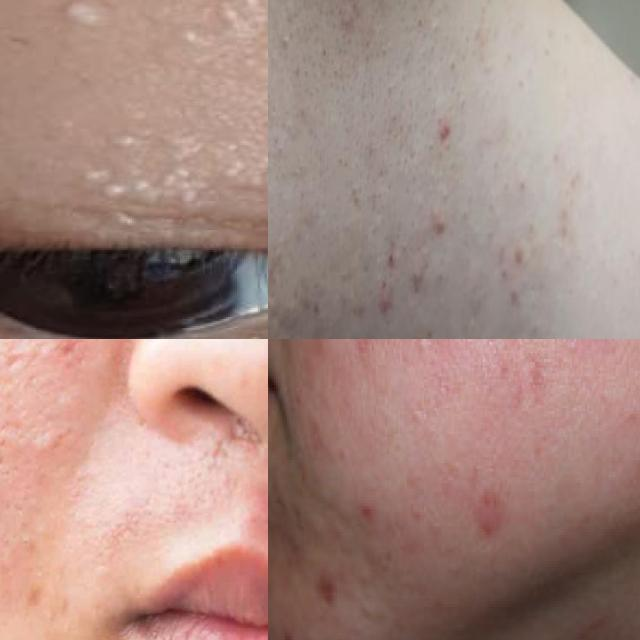comedone: (411, 1, 432, 46), (436, 56, 465, 88), (314, 42, 336, 82), (281, 20, 296, 70)
milium: (31, 132, 268, 219), (38, 0, 268, 49), (0, 121, 51, 213)
papule: (430, 206, 455, 266), (370, 285, 398, 322)
